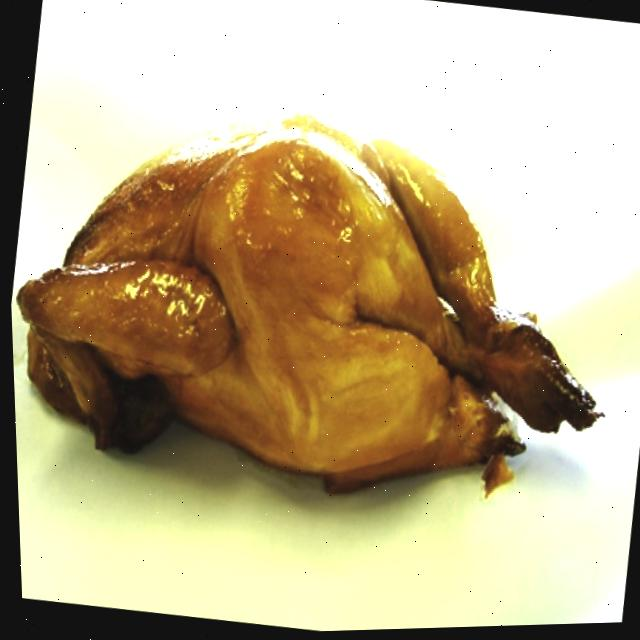鸡肉料理 含炸鸡: (2, 59, 638, 562)
